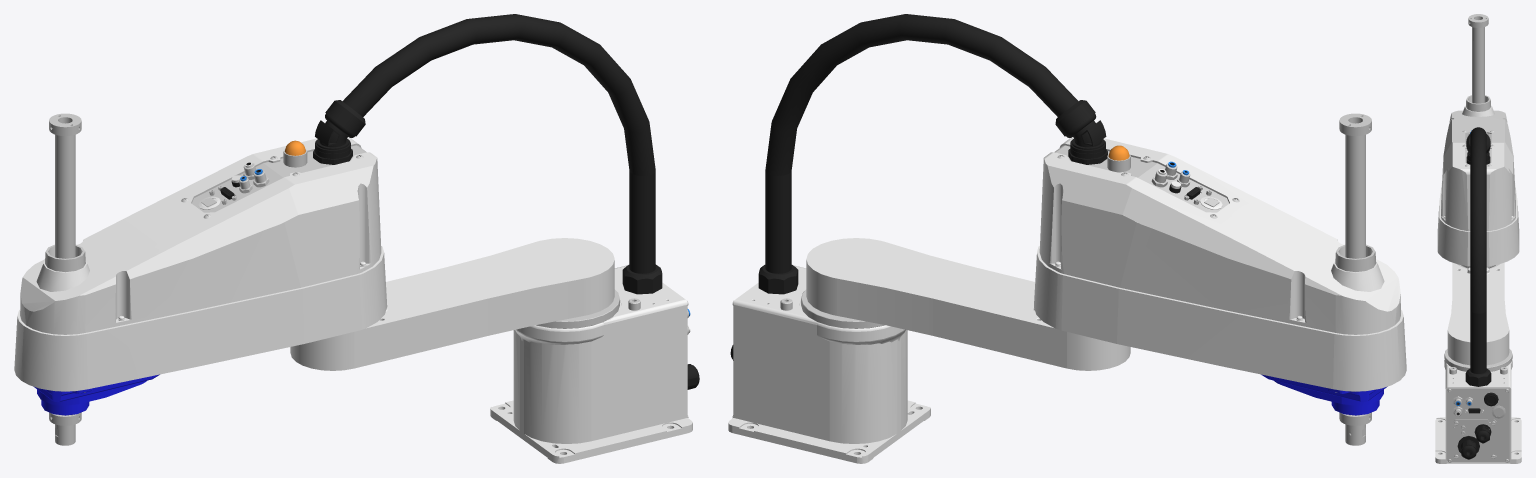
The model's file is ScaraRobot.fbx.
The picture shows the model from 3 angles, left to right: view 1: azimuth 30°, elevation 25°; view 2: azimuth 150°, elevation 25°; view 3: azimuth 270°, elevation 25°; orthographic projection. The views are drawn at different scales.
Visible parts, largest first — view 1: LS10-B702S_J2_4, LS10-B702S_base_1, LS10-B702S_J1_3, LS10-B702S_cable_2, LS10-B702S_z_5; view 2: LS10-B702S_J2_4, LS10-B702S_base_1, LS10-B702S_J1_3, LS10-B702S_cable_2, LS10-B702S_z_5; view 3: LS10-B702S_J2_4, LS10-B702S_base_1, LS10-B702S_cable_2, LS10-B702S_J1_3, LS10-B702S_z_5.
Boxes of the visible parts, x1,y1,x2,y2 form: LS10-B702S_J2_4: (14, 137, 387, 415); LS10-B702S_base_1: (490, 265, 699, 463); LS10-B702S_J1_3: (290, 238, 614, 370); LS10-B702S_cable_2: (313, 14, 662, 294); LS10-B702S_z_5: (49, 113, 81, 445); LS10-B702S_J2_4: (1034, 137, 1406, 415); LS10-B702S_base_1: (728, 265, 930, 463); LS10-B702S_J1_3: (806, 238, 1130, 370); LS10-B702S_cable_2: (758, 14, 1107, 294); LS10-B702S_z_5: (1339, 113, 1371, 445); LS10-B702S_J2_4: (1437, 95, 1519, 268); LS10-B702S_base_1: (1435, 349, 1521, 463); LS10-B702S_cable_2: (1465, 127, 1491, 386); LS10-B702S_J1_3: (1447, 262, 1509, 365); LS10-B702S_z_5: (1468, 14, 1488, 103).
Bounding box in the file's own units: 934 × 579 × 169.
